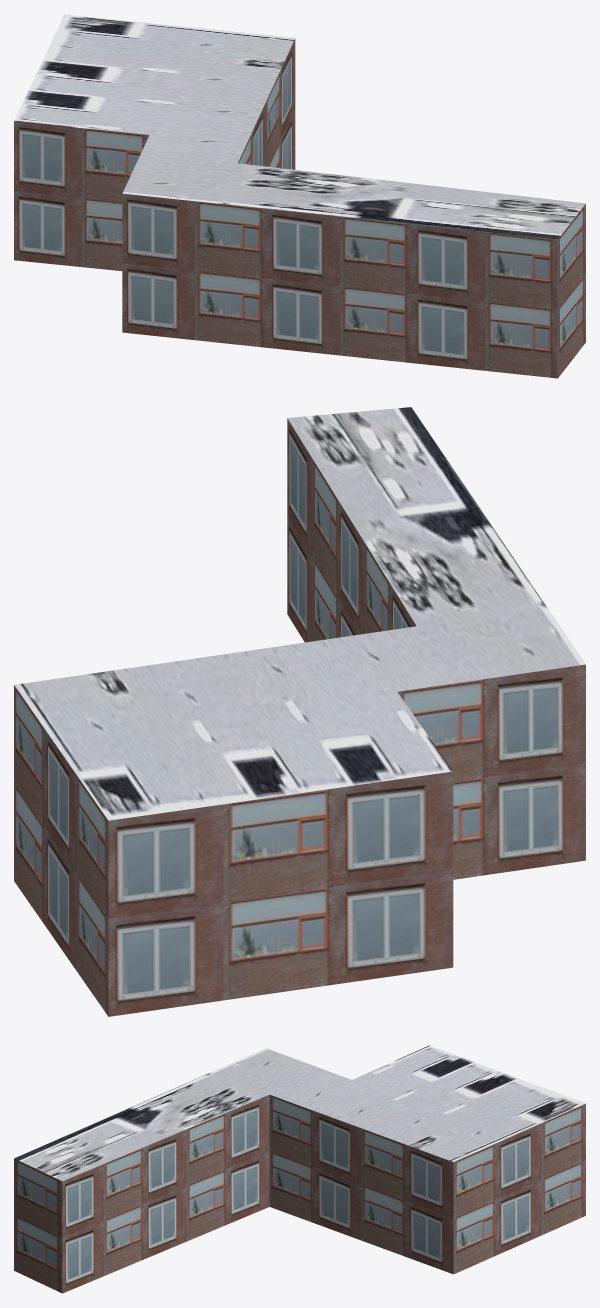
The model's file is ResTex__4830.fbx.
The picture shows the model from 3 angles, top to bottom: view 1: azimuth 30°, elevation 25°; view 2: azimuth 150°, elevation 25°; view 3: azimuth 270°, elevation 25°; orthographic projection. The views are drawn at different scales.
Visible parts, largest first — view 1: CityEngineMaterial_19_m, CityEngineMaterial_15_m; view 2: CityEngineMaterial_19_m, CityEngineMaterial_15_m; view 3: CityEngineMaterial_19_m, CityEngineMaterial_15_m.
Part boxes in pixels (box(x1,y1,x2,y2)): CityEngineMaterial_19_m: box(14, 39, 585, 378); CityEngineMaterial_15_m: box(14, 14, 585, 239); CityEngineMaterial_19_m: box(14, 418, 585, 1016); CityEngineMaterial_15_m: box(14, 407, 585, 820); CityEngineMaterial_19_m: box(14, 1094, 585, 1293); CityEngineMaterial_15_m: box(14, 1045, 585, 1181).
Size of the model in its own units: 15.58 by 6 by 27.71.
2 materials, 2 textured.
